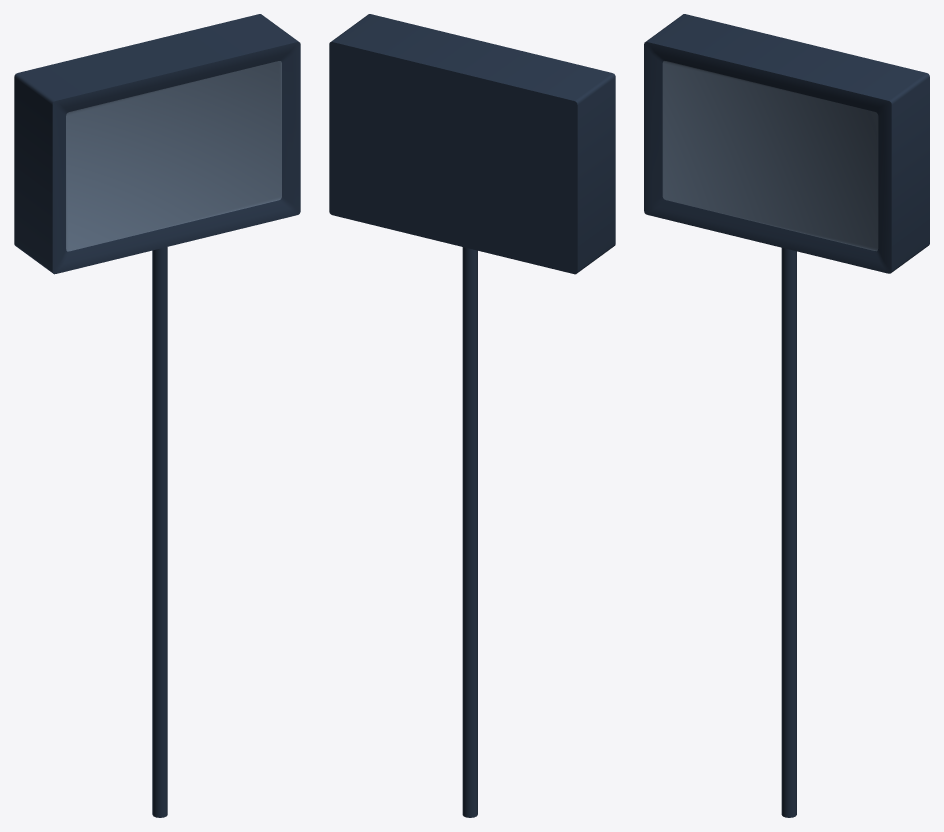
The model's file is Score_Board.FBX.
The picture shows the model from 3 angles, left to right: view 1: azimuth 30°, elevation 25°; view 2: azimuth 150°, elevation 25°; view 3: azimuth 330°, elevation 25°; orthographic projection.
Visible parts, largest first — view 1: Score_Board; view 2: Score_Board; view 3: Score_Board.
Boxes of the visible parts, x1=… form: Score_Board: x1=14, y1=14, x2=300, y2=817; Score_Board: x1=329, y1=14, x2=615, y2=817; Score_Board: x1=644, y1=14, x2=929, y2=817.
Size of the model in its own units: 150 by 438 by 40.
